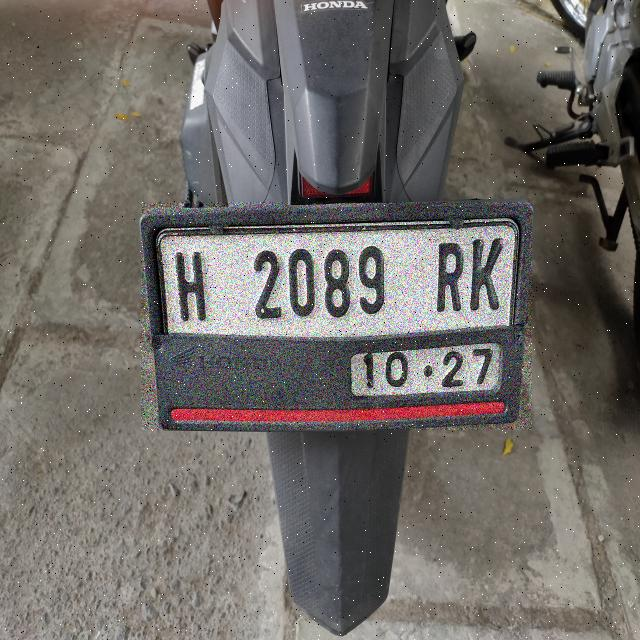plate: (141, 202, 531, 429)
